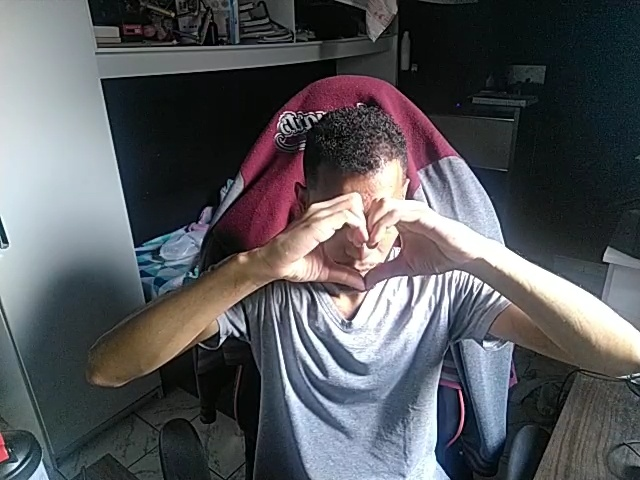eu_te_amo: (263, 189, 457, 286)
